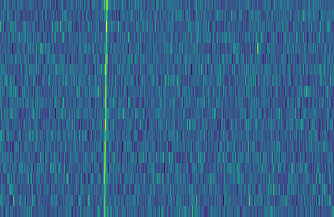signal: (98, 0, 110, 217)
